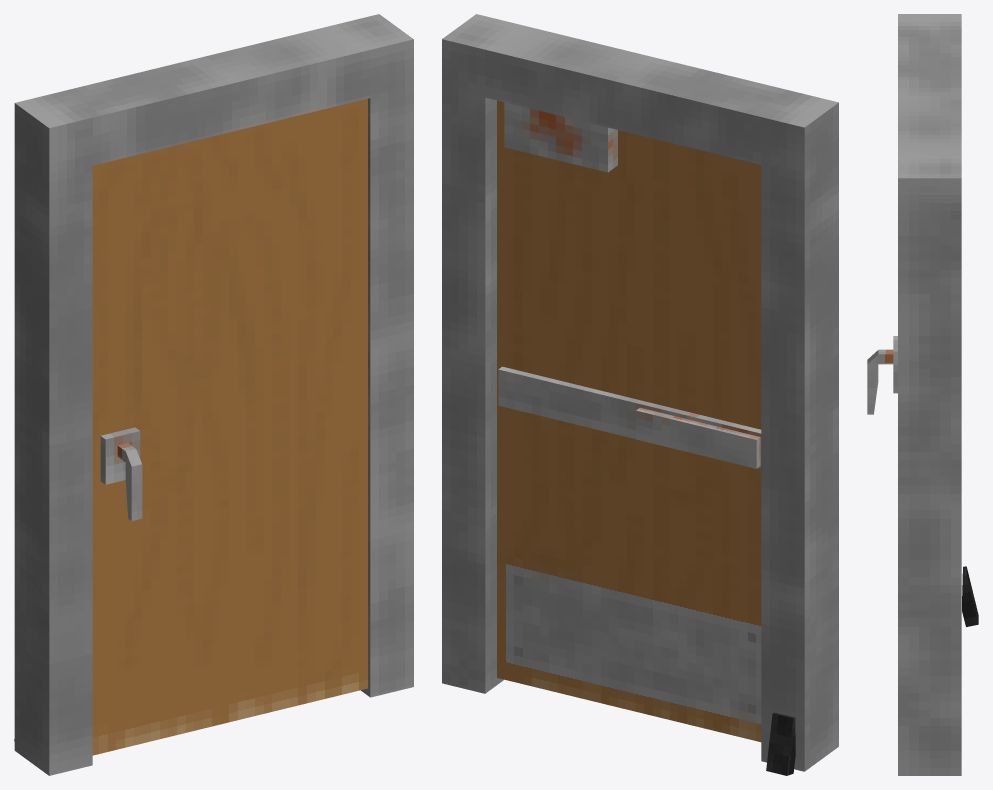
File: doorFacility.gltf
3 views of the same model, side by side, from view 1: azimuth 30°, elevation 25°; view 2: azimuth 150°, elevation 25°; view 3: azimuth 270°, elevation 25° (orthographic). The views are drawn at different scales.
Parts seen in each view (by area): view 1: door, doorFrame, turnHandle; view 2: door, doorFrame, pushHandle, block, doorStop; view 3: doorFrame, turnHandle, doorStop.
Boxes of the visible parts, x1,y1,x2,y2 form: door: (92, 98, 367, 755); doorFrame: (14, 14, 413, 775); turnHandle: (100, 427, 142, 520); door: (497, 100, 761, 742); doorFrame: (442, 14, 838, 771); pushHandle: (498, 366, 761, 469); block: (504, 102, 617, 172); doorStop: (766, 712, 795, 775); doorFrame: (898, 14, 961, 775); turnHandle: (867, 336, 897, 414); doorStop: (962, 566, 978, 626).
Bounding box in the file's own units: 1.31 × 2.24 × 0.376.
1 material, 1 textured.
